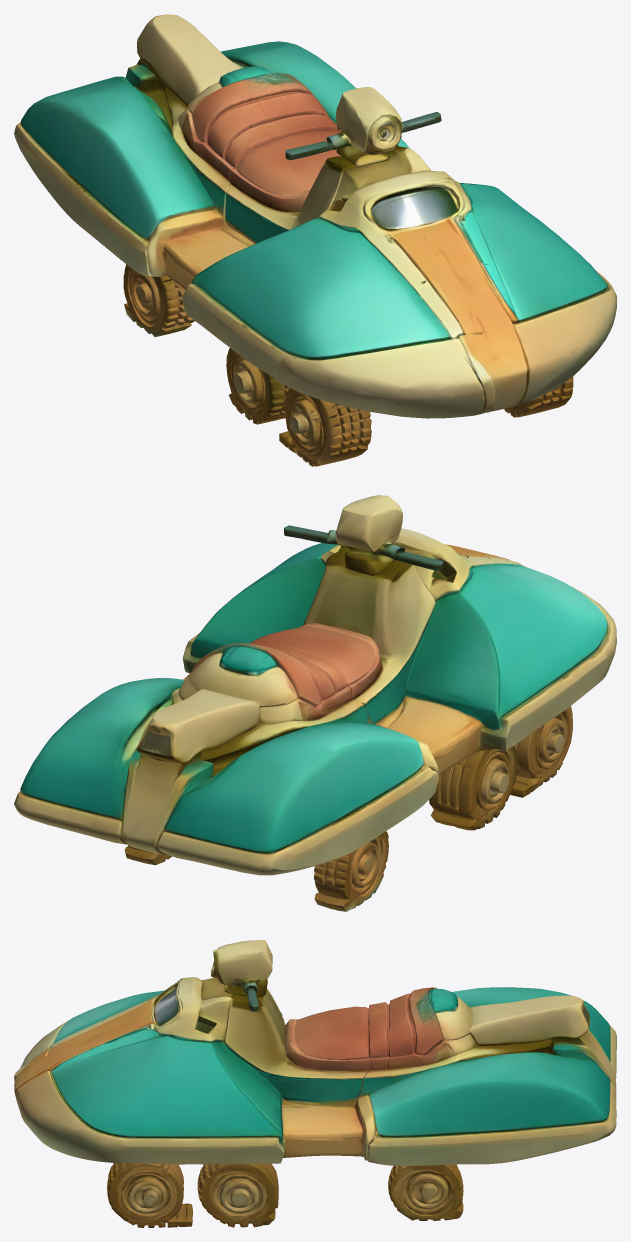
The model's file is speeder_text.glb.
3 renders of one model, top to bottom at view 1: azimuth 30°, elevation 25°; view 2: azimuth 150°, elevation 25°; view 3: azimuth 270°, elevation 25°, orthographic. The views are drawn at different scales.
Parts seen in each view (by area): view 1: model; view 2: model; view 3: model.
Boxes of the visible parts, box(x1,y1,x2,y2) form: model: box(14, 14, 616, 466); model: box(14, 495, 616, 911); model: box(14, 940, 616, 1227).
Bounding box in the file's own units: 0.9666 × 0.8167 × 1.9.
Materials: 1 (1 with a texture image).
